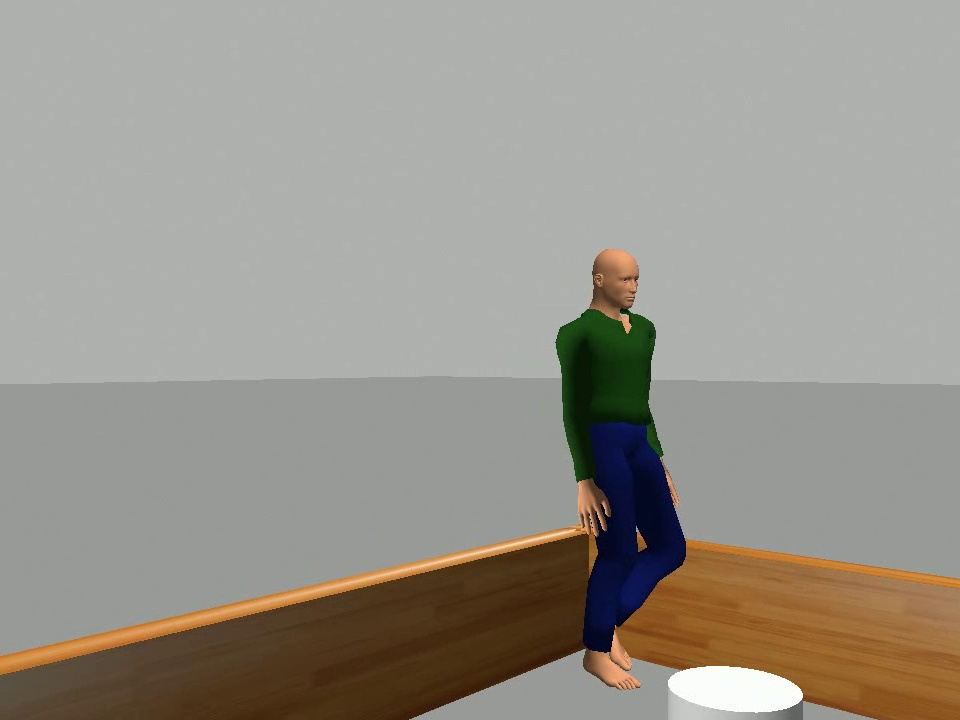person: (549, 245, 690, 696)
